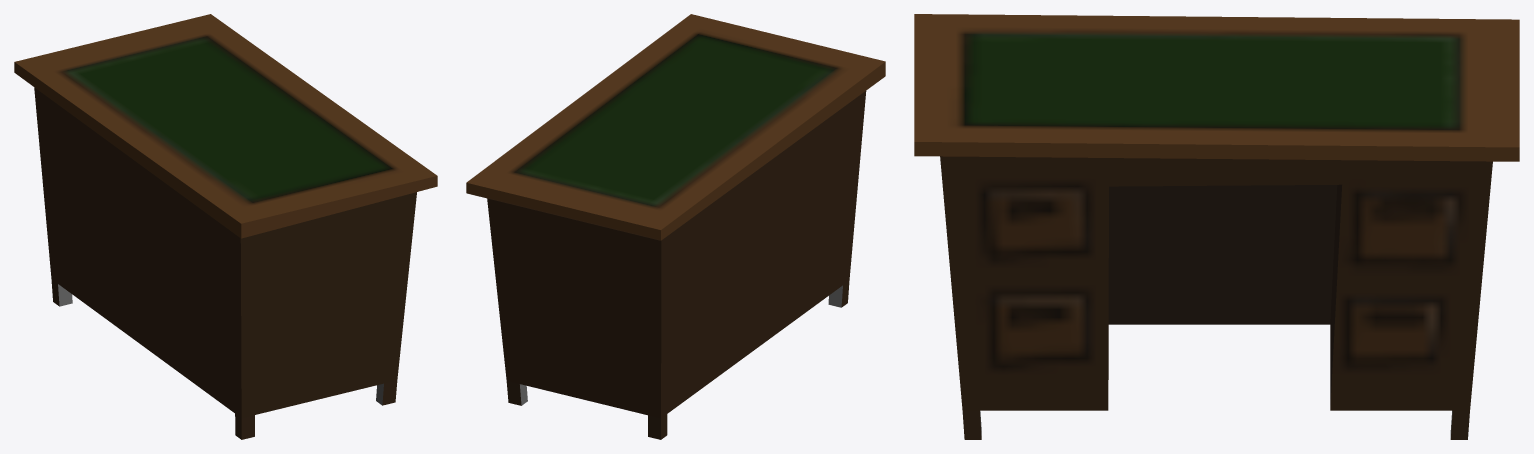
Rendered from Desk.fbx.
The picture shows the model from 3 angles, left to right: view 1: azimuth 30°, elevation 25°; view 2: azimuth 150°, elevation 25°; view 3: azimuth 270°, elevation 25°; orthographic projection. The views are drawn at different scales.
Parts seen in each view (by area): view 1: Desk; view 2: Desk; view 3: Desk.
Boxes of the visible parts, x1,y1,x2,y2 form: Desk: (14,14,437,439); Desk: (466,14,885,439); Desk: (914,14,1519,439).
Size of the model in its own units: 1.06 by 1.21 by 2.11.
